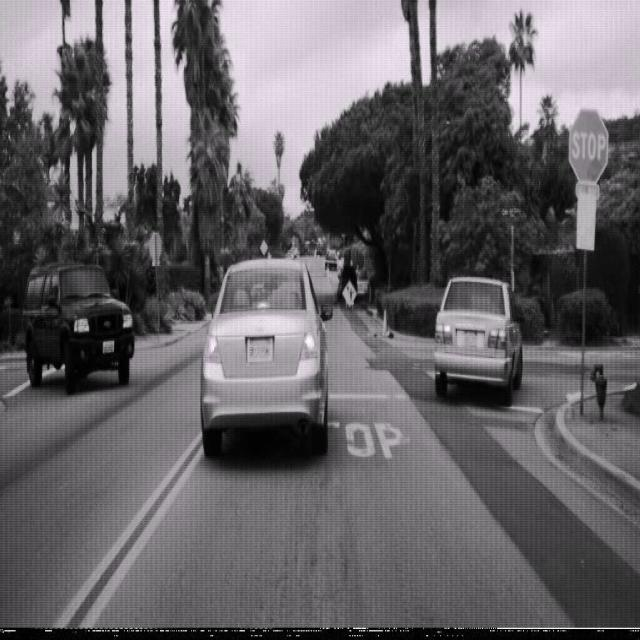stop: (568, 108, 609, 184)
